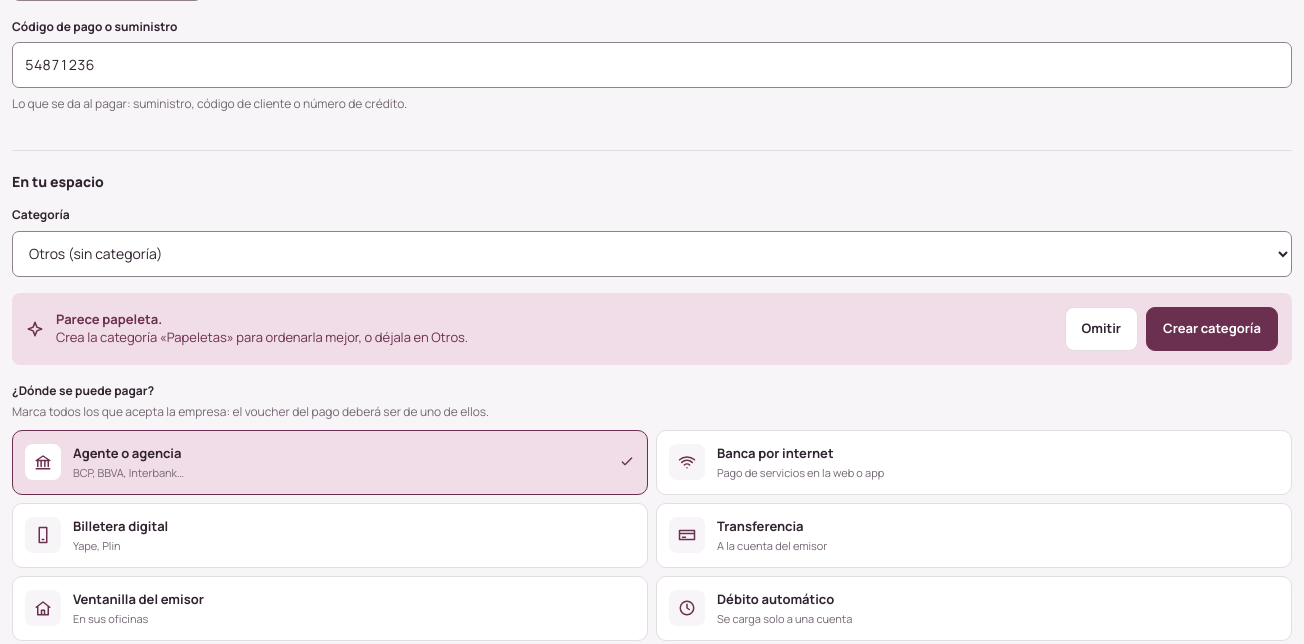
Test: FormularioDeuda › sugiere crear la categoría que propuso el análisis o dejarla en Otros
(page scrolled)
Click the button "Omitir" at point(1101, 329), box 1064,307 -> 1138,351
(page scrolled)
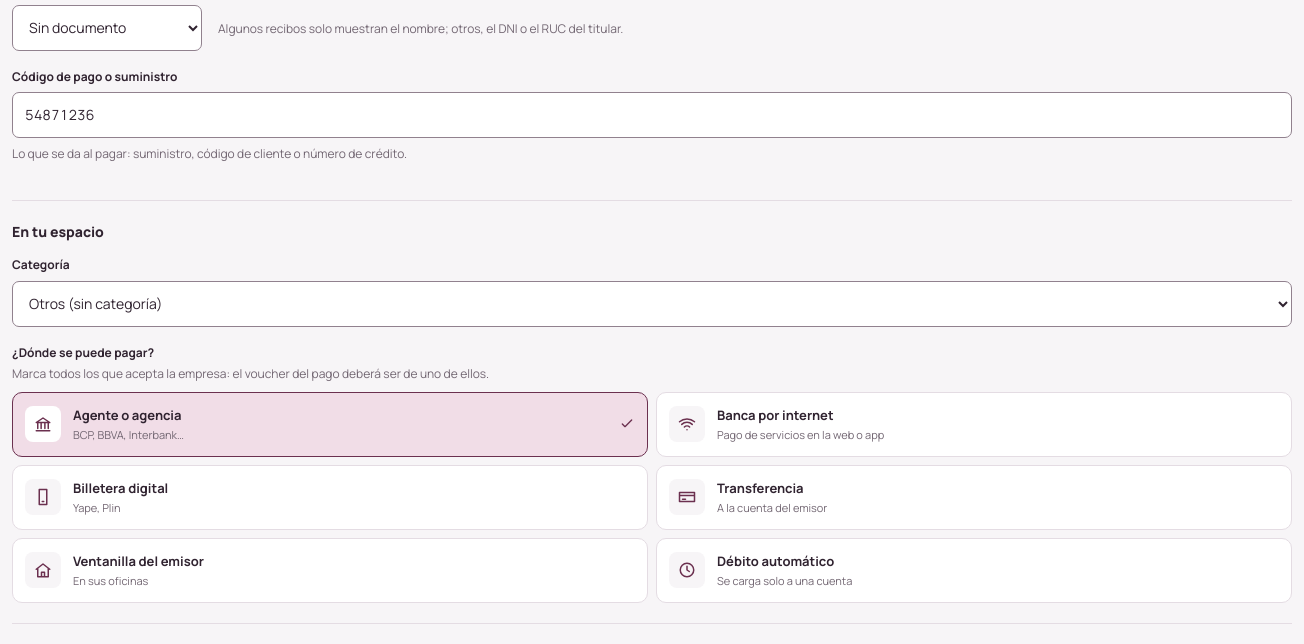
Expected: the text "Crea la categoría «Papeletas»" is gone
